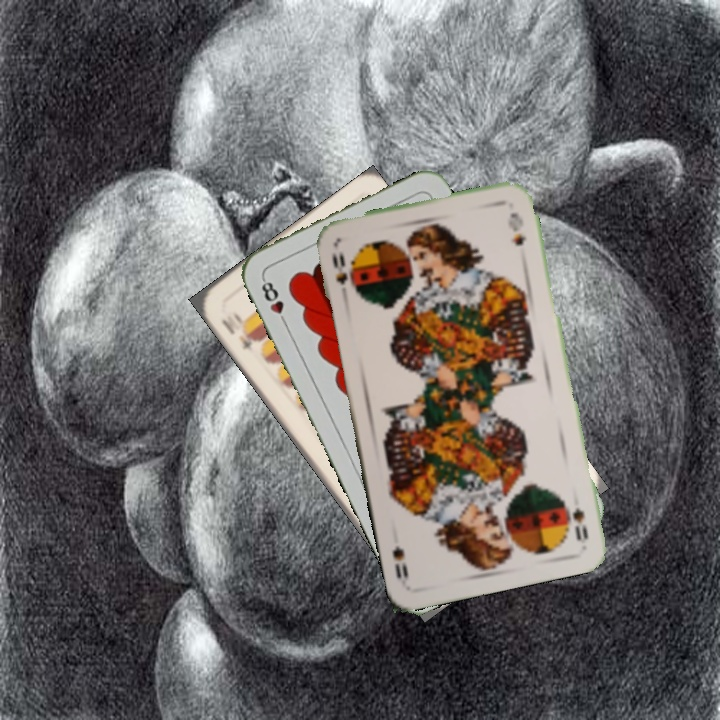E10: (217, 314, 262, 357)
H8: (257, 274, 291, 329)
SO: (328, 247, 356, 302), (568, 503, 591, 543)
